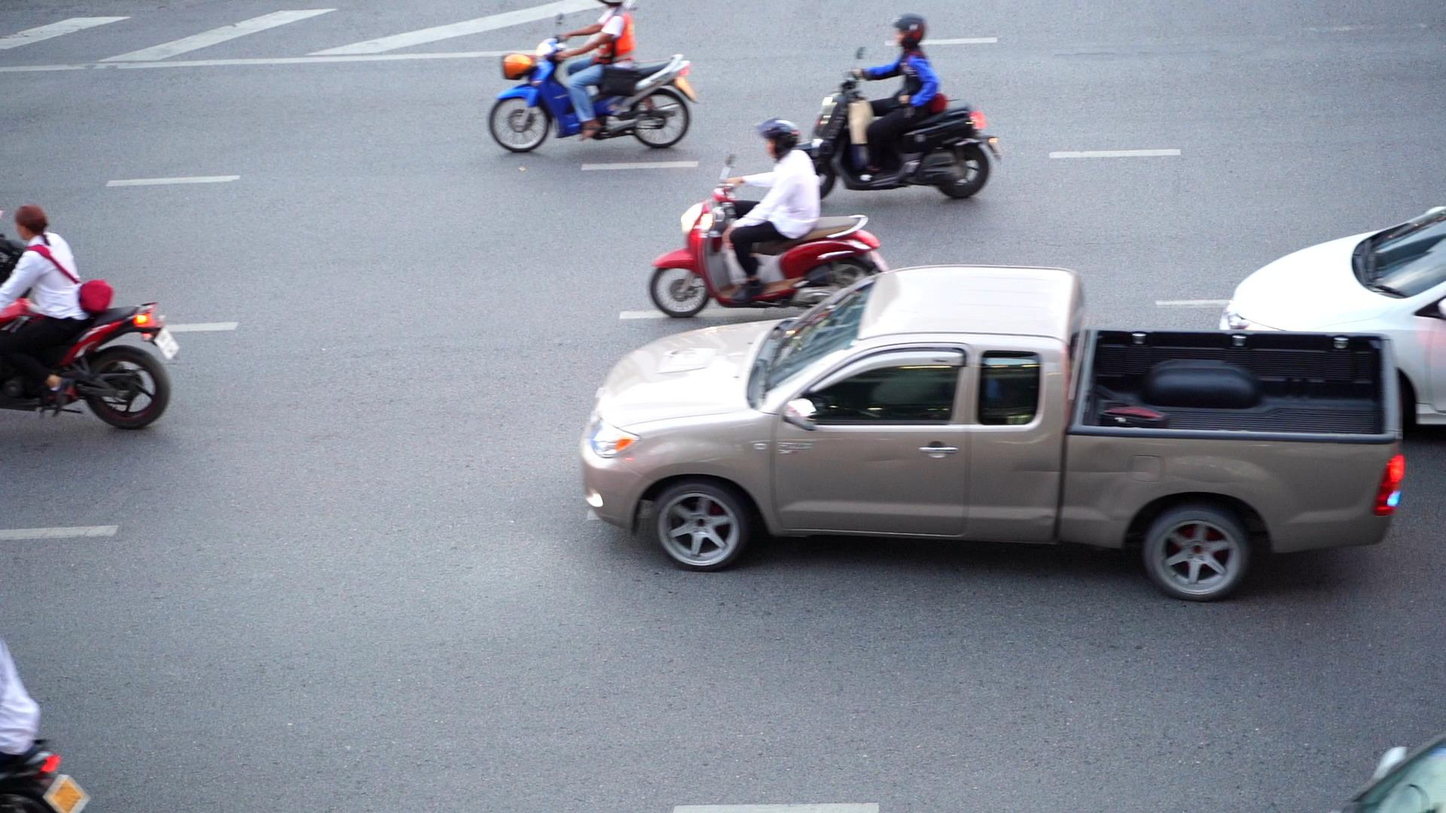driver: (650, 117, 888, 319), (0, 204, 180, 428), (790, 13, 1002, 199), (488, 0, 699, 152)
helmet: (755, 118, 800, 159), (892, 13, 926, 49)
no-helmet: (14, 204, 48, 240)
